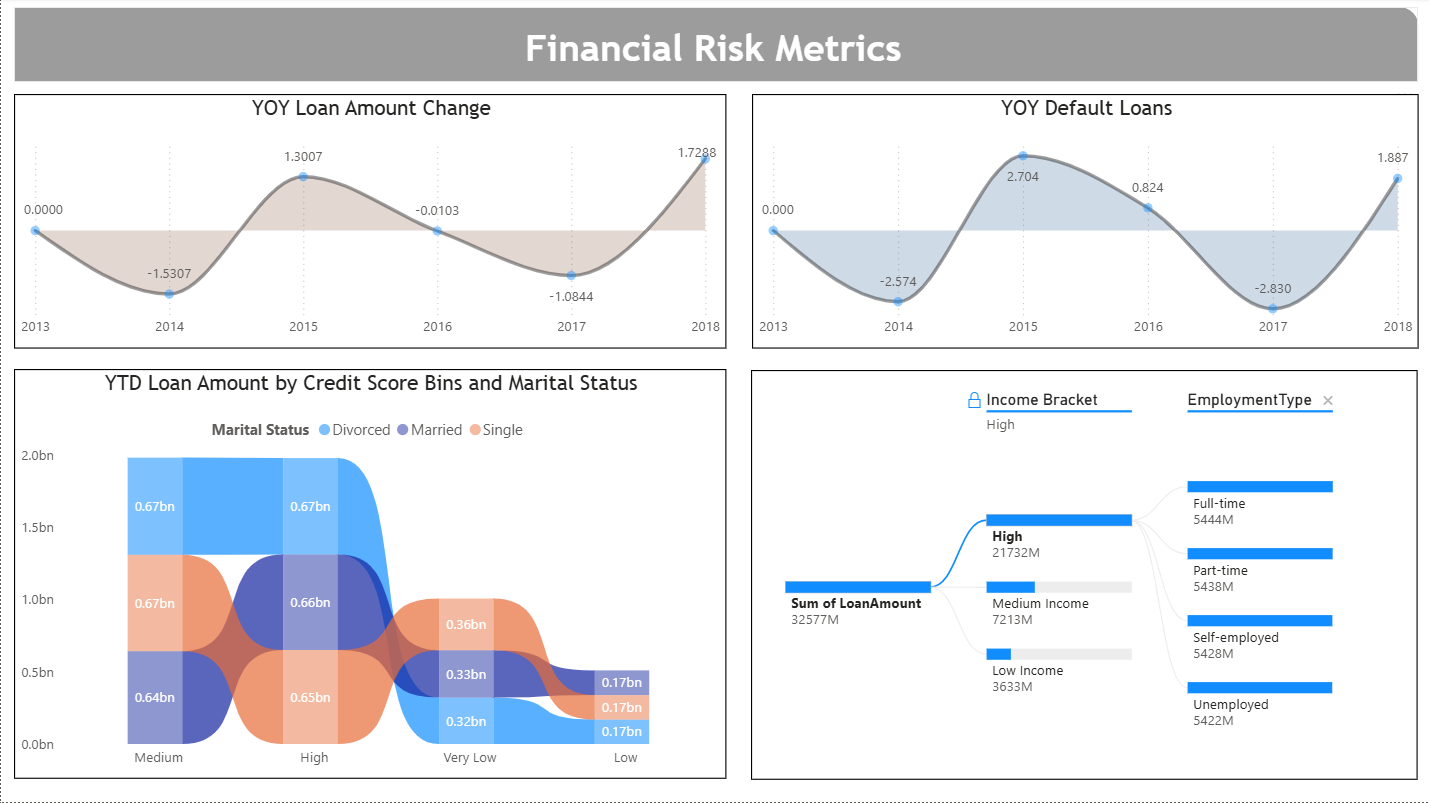

Layout of this report page (visuals, bound fields, positions):
{"tool":"powerbi","page":{"name":"Financial Risk Metrics","canvas":[1280,720],"ordinal":2},"visuals":[{"type":"shape","box":[11.7,7.8,1257.6,67.1],"z":0},{"type":"lineChart","title":"YOY Loan Amount Change","fields":{"Category":["Loan_default.Year"],"Y":["Measures Table 3.YOY Change"]},"box":[11.7,85.6,638.1,227.6],"z":1000},{"type":"lineChart","title":"YOY Default Loans","fields":{"Category":["Loan_default.Year"],"Y":["Measures Table 3.YOY Default Loans"]},"box":[672.1,85.6,597.2,227.6],"z":2000},{"type":"ribbonChart","title":"YTD Loan Amount by Credit Score Bins and Marital Status","fields":{"Category":["Loan_default.Credit Score Bins"],"Series":["Loan_default.MaritalStatus"],"Y":["Measures Table 3.YTD Loan Amount"]},"box":[11.6,332.2,637.6,367.2],"z":3000},{"type":"decompositionTreeVisual","fields":{"Analyze":["Sum(Loan_default.LoanAmount)"],"ExplainBy":["Loan_default.Income Bracket","Loan_default.EmploymentType"]},"box":[672,333,597,367],"z":4000}]}

Visuals, with their boxes in screenshot pixels (x1, y1, x2, y2), scaled from the page's 1280x720 canvas onto the 1429x803 screenshot:
shape: pyautogui.locateOnScreen(13, 9, 1417, 84)
"YOY Loan Amount Change" lineChart: pyautogui.locateOnScreen(13, 95, 725, 349)
"YOY Default Loans" lineChart: pyautogui.locateOnScreen(750, 95, 1417, 349)
"YTD Loan Amount by Credit Score Bins and Marital Status" ribbonChart: pyautogui.locateOnScreen(13, 370, 725, 780)
decompositionTreeVisual - Sum(Loan_default.LoanAmount) x Loan_default.Income Bracket: pyautogui.locateOnScreen(750, 371, 1417, 781)
